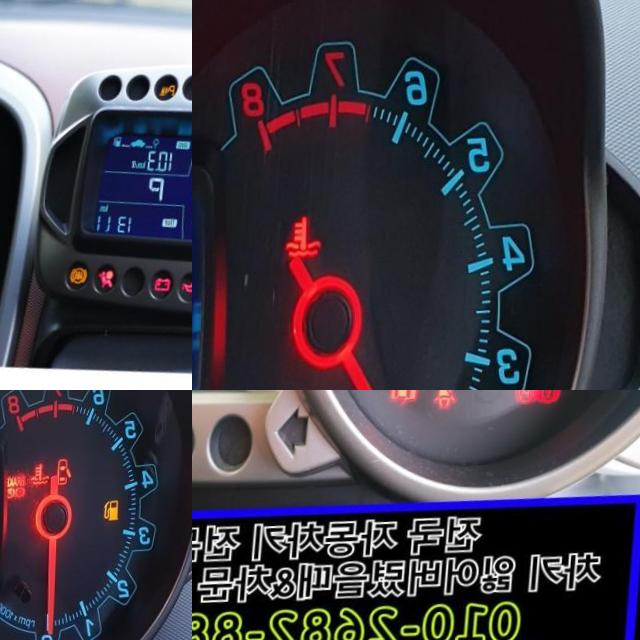Doors: (391, 390, 421, 413), (60, 465, 75, 493)
Engine cooling system: (288, 217, 326, 263), (33, 469, 53, 493)
Low fuel level: (106, 507, 122, 531)
